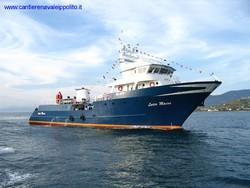otherboat: (26, 29, 223, 130)
